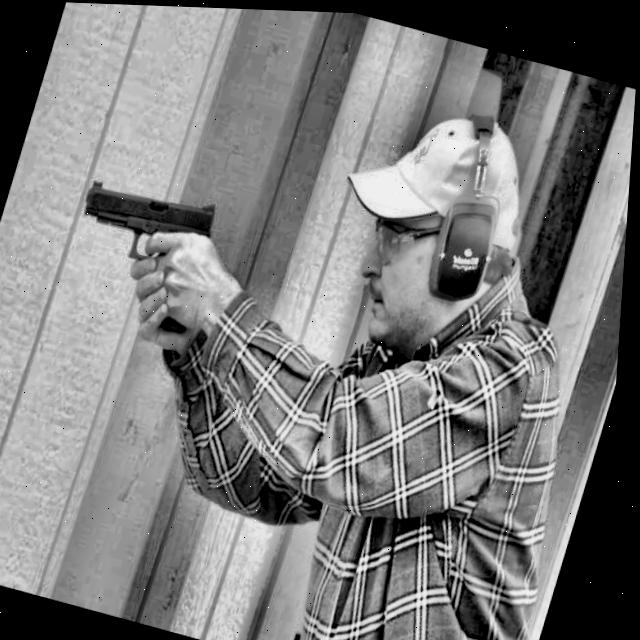pistol: (27, 135, 241, 348)
